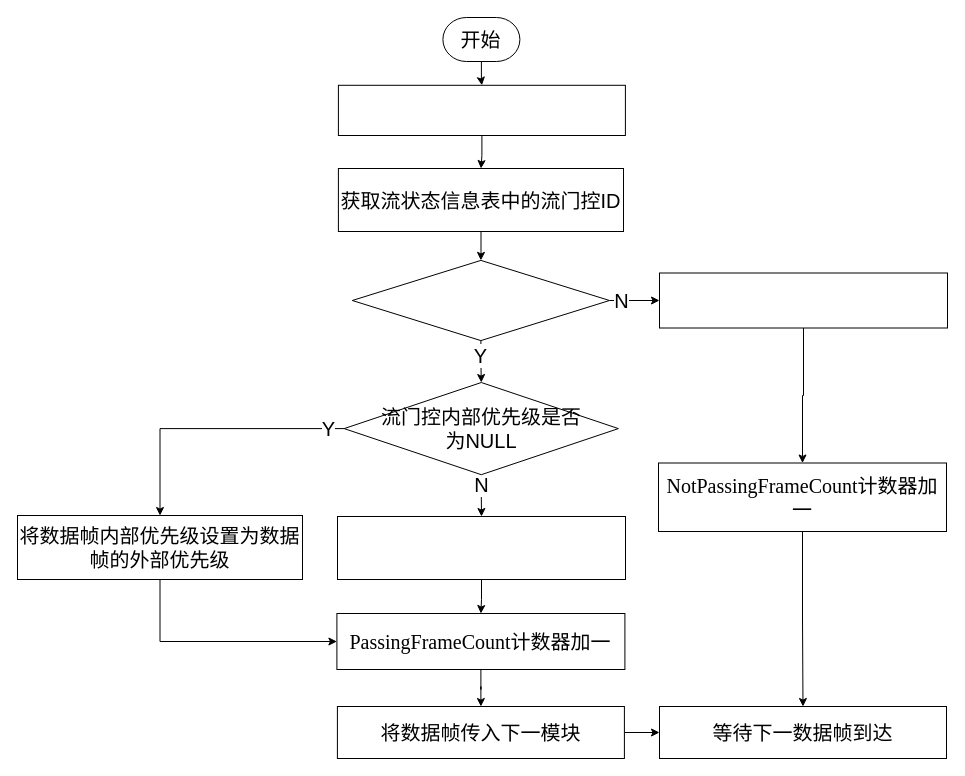
The diagram is 965 pixels wide and 776 high, and some of its shapes have lost their labels. Here are the shapes that lost their labels. From the top down, the centre of each, then its label:
At point (481, 110): "等待数据帧到达".
At point (480, 300): "流门控状态为OPEN".
At point (803, 300): "丢弃数据帧".
At point (481, 548): "为数据帧分配内部优先级".
